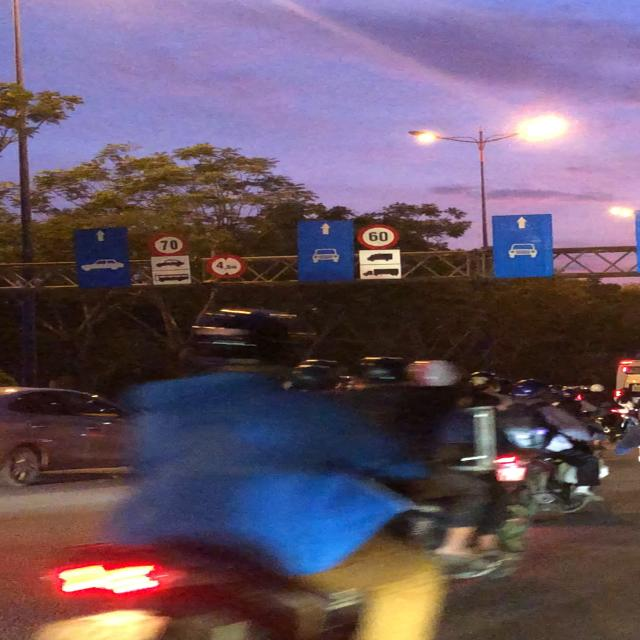Bien bao han che chieu cao: (208, 253, 250, 279)
Bien bao toc do toi da cho phep: (146, 230, 190, 257), (353, 222, 396, 247)
